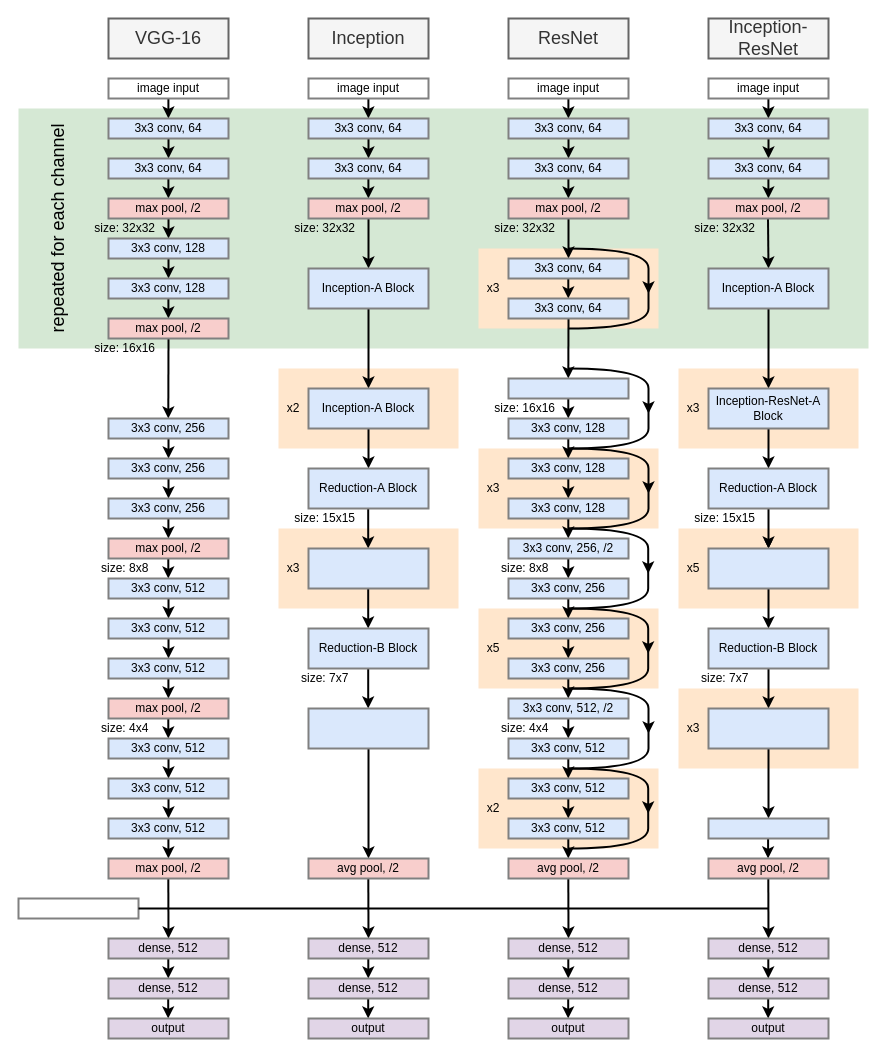
Image size: 885x1057. Some labels were removed from this diagram. Each missing label, with the centre of its shape:
3x3 conv, 128, /2: [568,388]
3x3 conv, 1536: [768,828]
hough pars, 5: [78,908]
Inception-B Block: [368,568]
Inception-C Block: [368,728]
Inception-ResNet-B Block: [768,568]
Inception-ResNet-C Block: [768,728]
